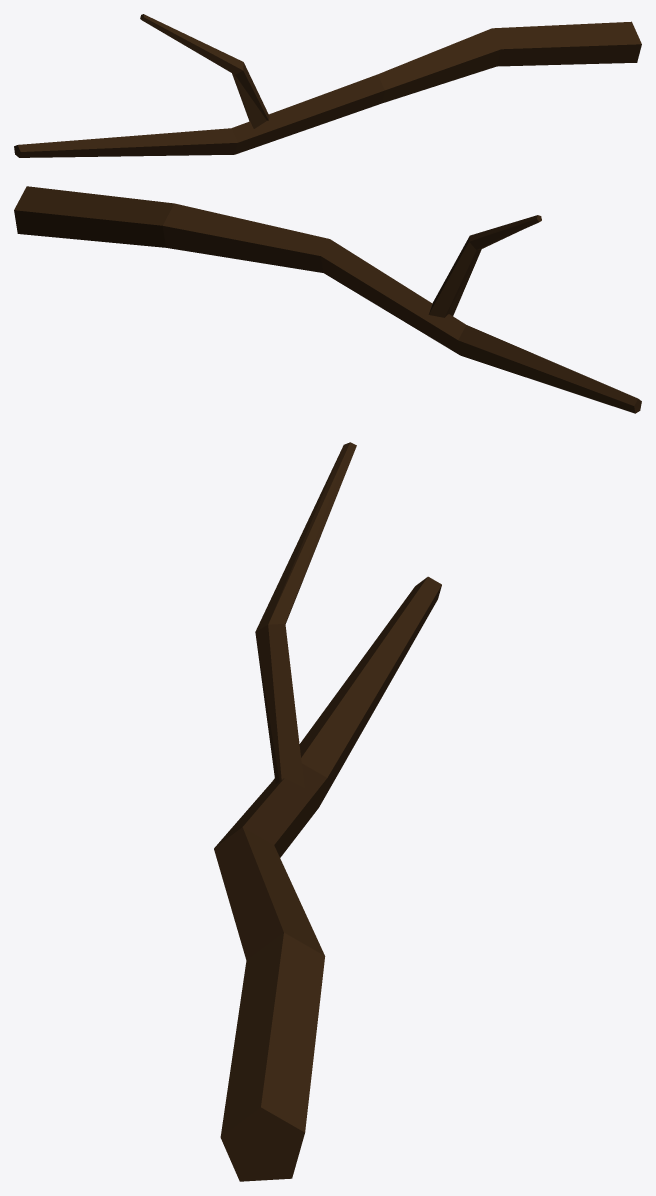
The model's file is Galaz_1.fbx.
3 renders of one model, top to bottom at view 1: azimuth 30°, elevation 25°; view 2: azimuth 150°, elevation 25°; view 3: azimuth 270°, elevation 25°, orthographic. The views are drawn at different scales.
Parts seen in each view (by area): view 1: Galaz_1; view 2: Galaz_1; view 3: Galaz_1.
Boxes of the visible parts, x1=… form: Galaz_1: x1=14, y1=14, x2=641, y2=157; Galaz_1: x1=14, y1=186, x2=641, y2=413; Galaz_1: x1=214, y1=442, x2=441, y2=1181.
Bounding box in the file's own units: 1256 × 308 × 217.
